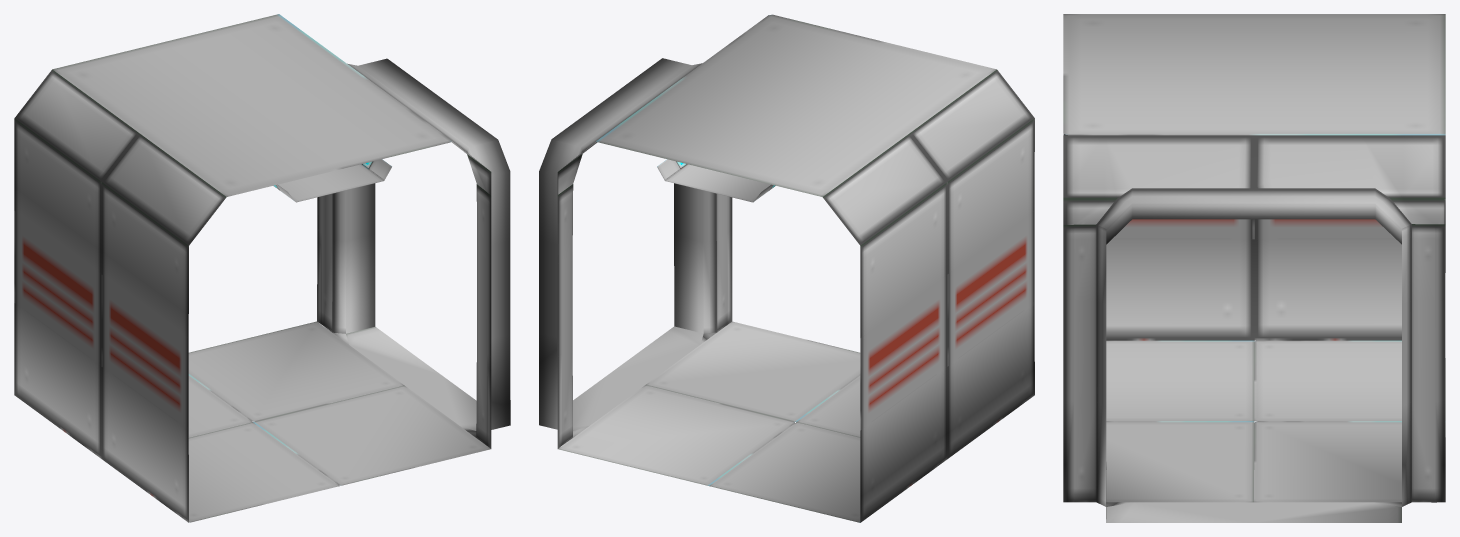
Rendered from corr_door_1.fbx.
3 renders of one model, left to right at view 1: azimuth 30°, elevation 25°; view 2: azimuth 150°, elevation 25°; view 3: azimuth 270°, elevation 25°, orthographic. The views are drawn at different scales.
Visible parts, largest first — view 1: Cube_038; view 2: Cube_038; view 3: Cube_038.
Part boxes in pixels (x1=…): Cube_038: x1=14, y1=14, x2=510, y2=522; Cube_038: x1=539, y1=14, x2=1034, y2=522; Cube_038: x1=1063, y1=14, x2=1445, y2=522.
Size of the model in its own units: 9.02 by 8 by 7.99.
